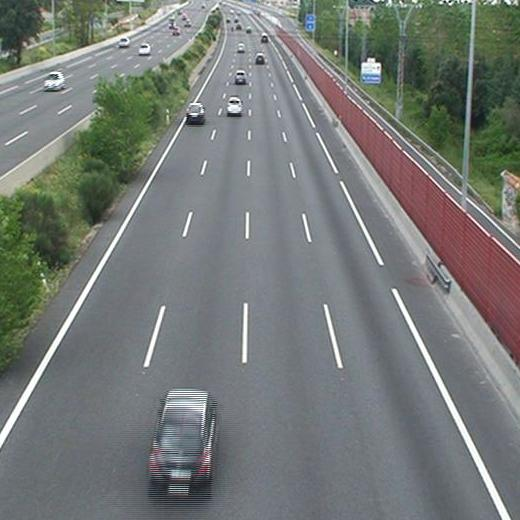car: (150, 391, 212, 490), (186, 103, 205, 122), (226, 97, 242, 115), (234, 71, 246, 83), (255, 53, 263, 62), (237, 43, 245, 51), (259, 35, 268, 42)
